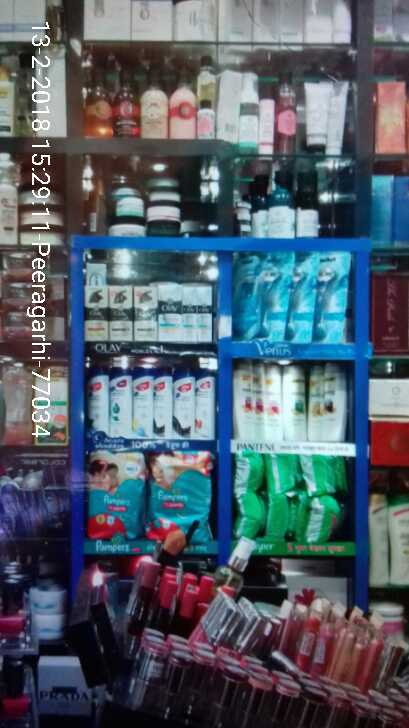venus: (315, 253, 350, 340), (260, 255, 288, 340), (288, 255, 315, 340), (235, 254, 260, 340)
